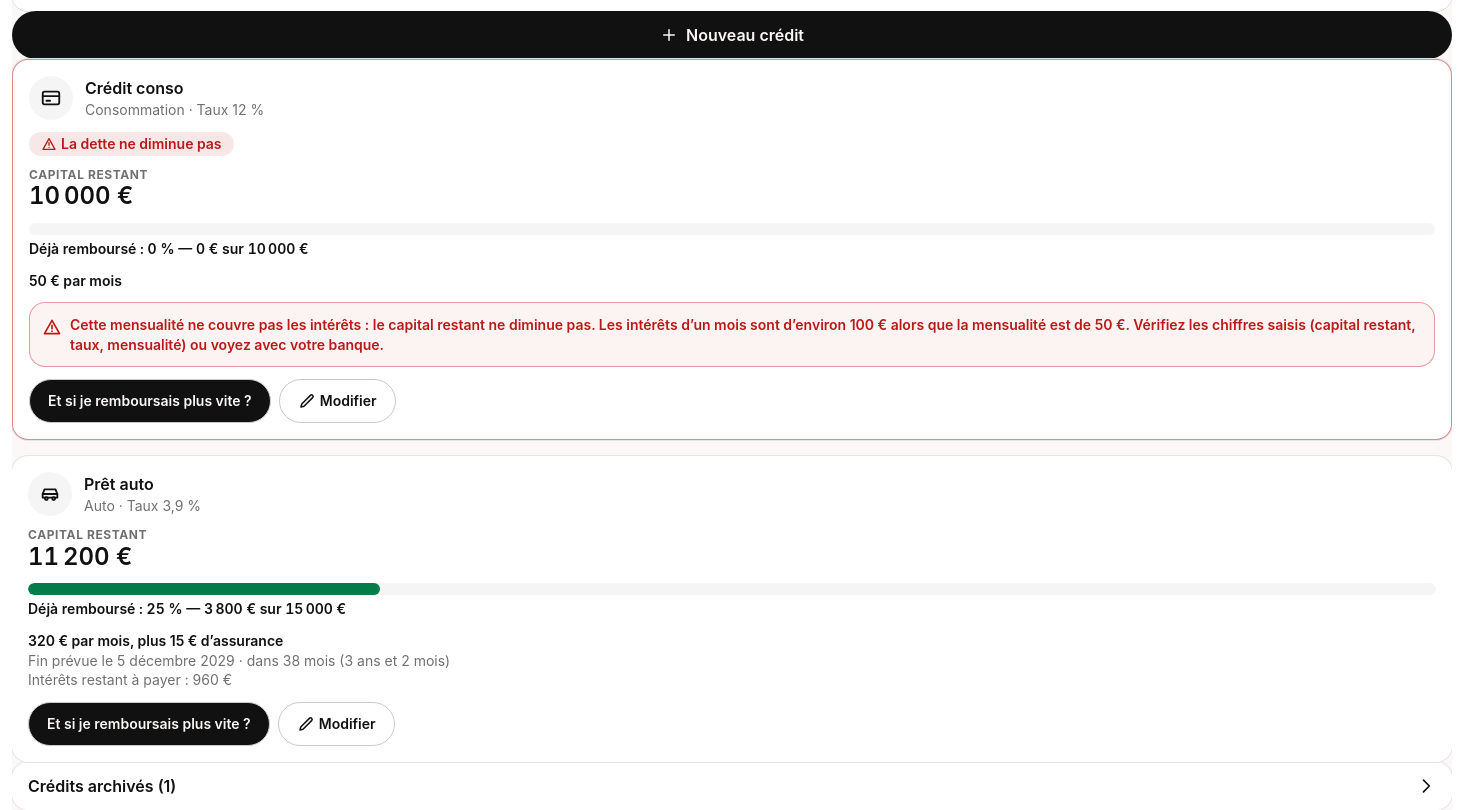
Test: DettesPage › list › folds the archived debts
(page scrolled)
What coordinates should you click on to do the following:
click the heading "Crédits archivés (1)"
I would click on:
 (96, 786)
Its box is [28,776,1436,796].
(page scrolled)
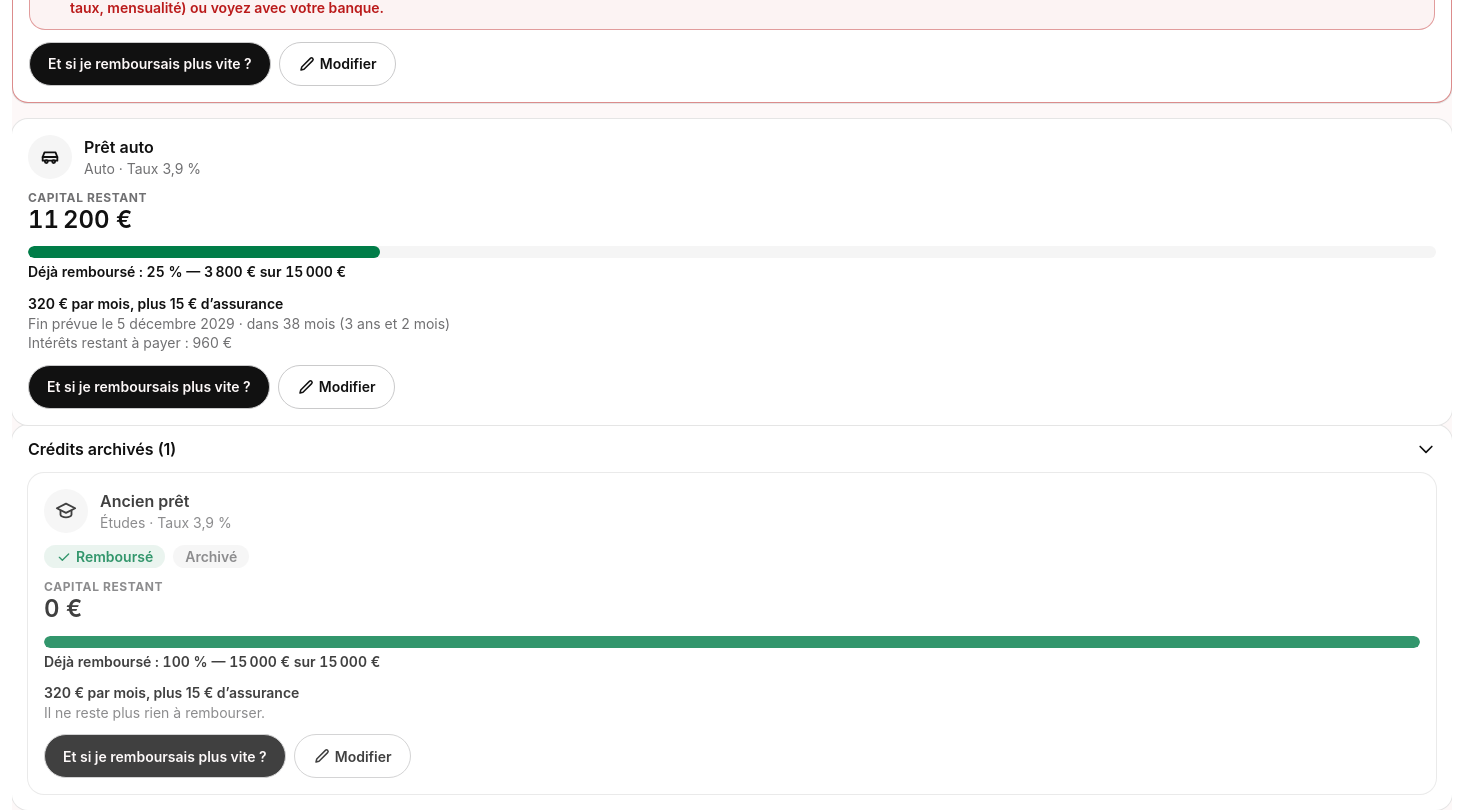
Now the heading "Ancien prêt" is shown, box [100,491,189,511]
Now the text "Archivé" is shown, box [173,545,249,568]
Now the text "Remboursé" is shown, box [44,545,165,568]
